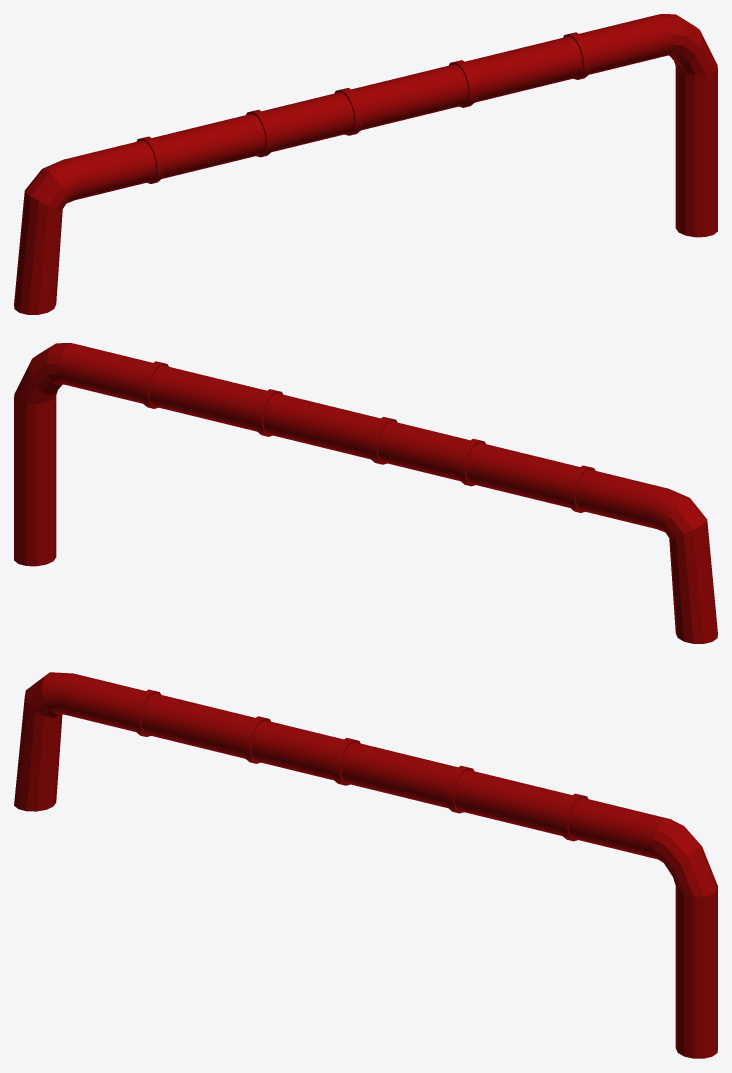
The model's file is tuyau_droit.fbx.
3 renders of one model, top to bottom at view 1: azimuth 30°, elevation 25°; view 2: azimuth 150°, elevation 25°; view 3: azimuth 330°, elevation 25°, orthographic.
Visible parts, largest first — view 1: Tuyau2; view 2: Tuyau2; view 3: Tuyau2.
Boxes of the visible parts, bbox=[...] form: Tuyau2: bbox=[14, 14, 717, 314]; Tuyau2: bbox=[14, 343, 717, 643]; Tuyau2: bbox=[14, 672, 717, 1058].
Size of the model in its own units: 806 by 248 by 47.21.
